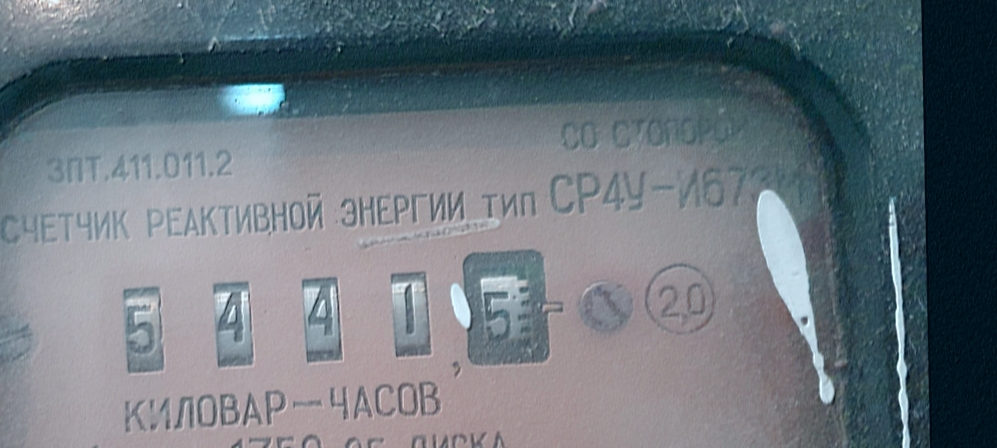1: (393, 280, 418, 338)
4: (299, 277, 337, 344), (210, 285, 247, 347)
5: (118, 300, 158, 358), (477, 284, 513, 347)
screen: (95, 226, 571, 401)
